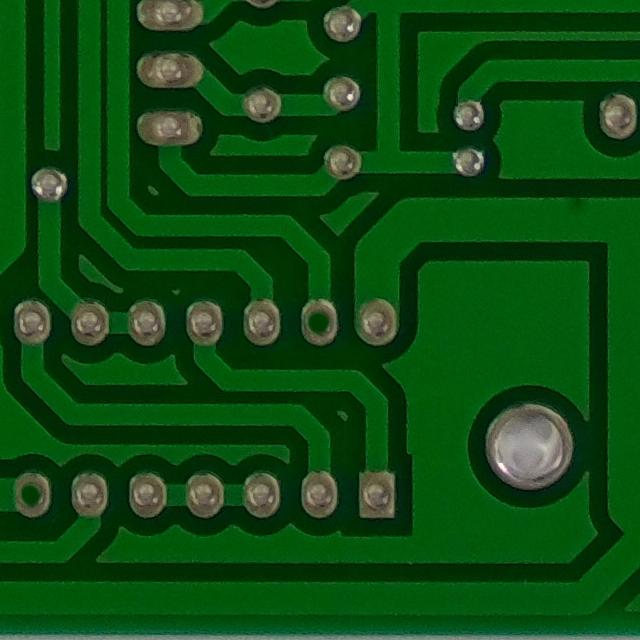missing_hole: (4, 462, 62, 527), (293, 291, 348, 356)
